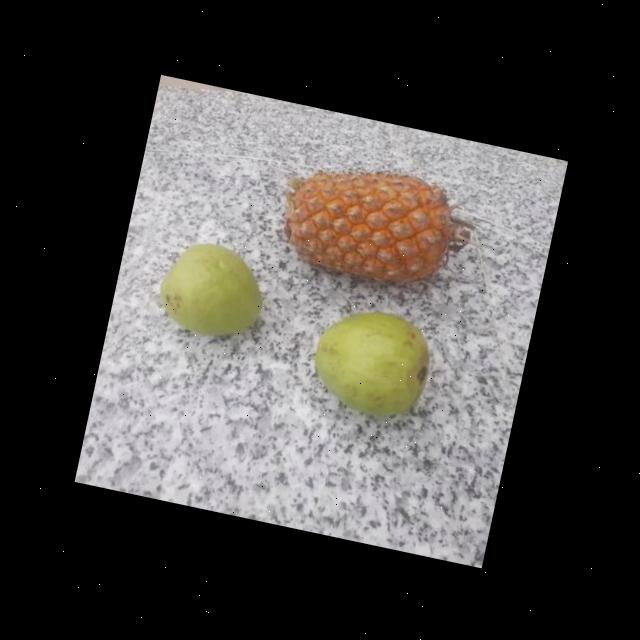guava: (307, 304, 442, 424), (151, 235, 274, 342)
pineapple: (272, 148, 464, 300)
